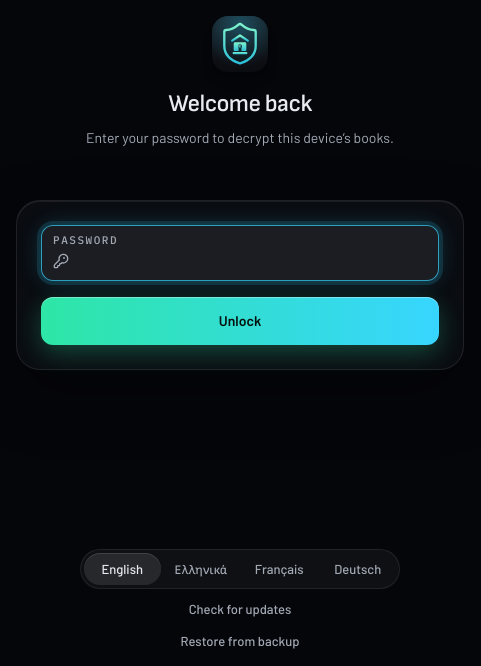
Test: UnlockScreen submit › invalid_password maps to Incorrect-password banner, never the Rust message
Type "wrong" into the password field labelled "Password" at x=240, y=261, box [53,249,427,273]
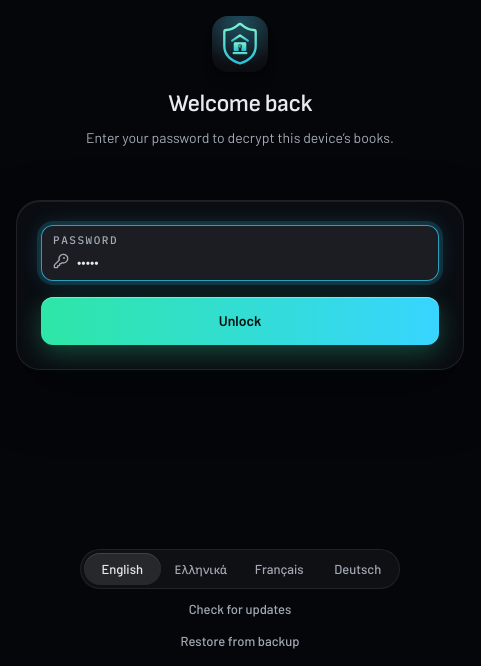
Click the button "Unlock" at x=240, y=321, box [41,297,439,345]
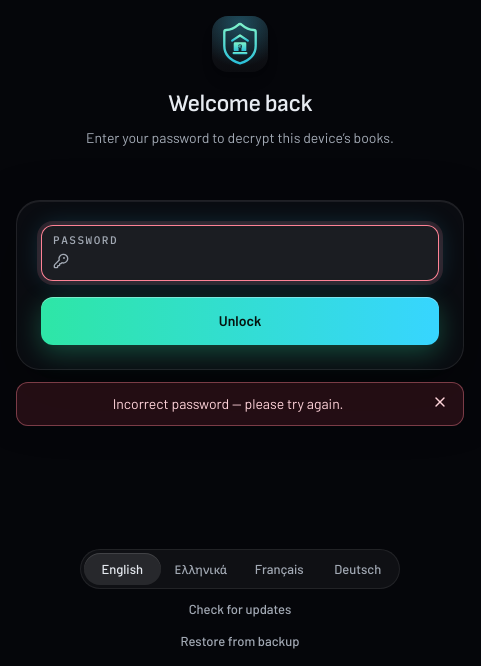
Result: the text "Incorrect password — please try again." is shown at [113,395,343,412]
